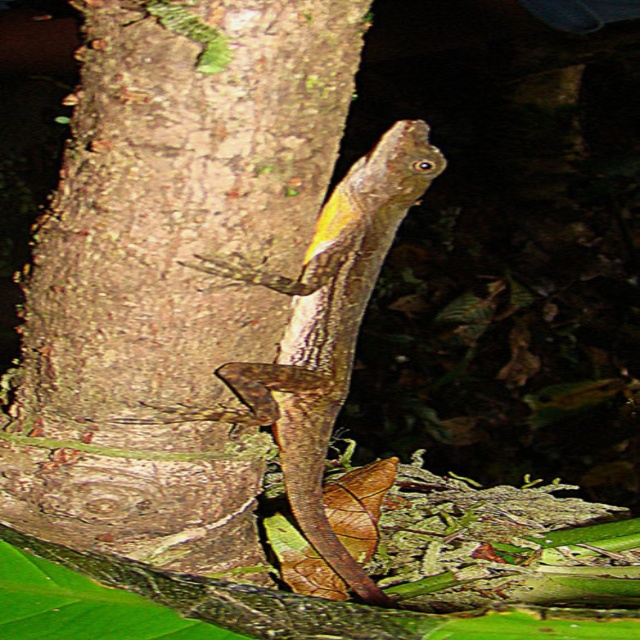Lizard: (153, 131, 508, 566)
